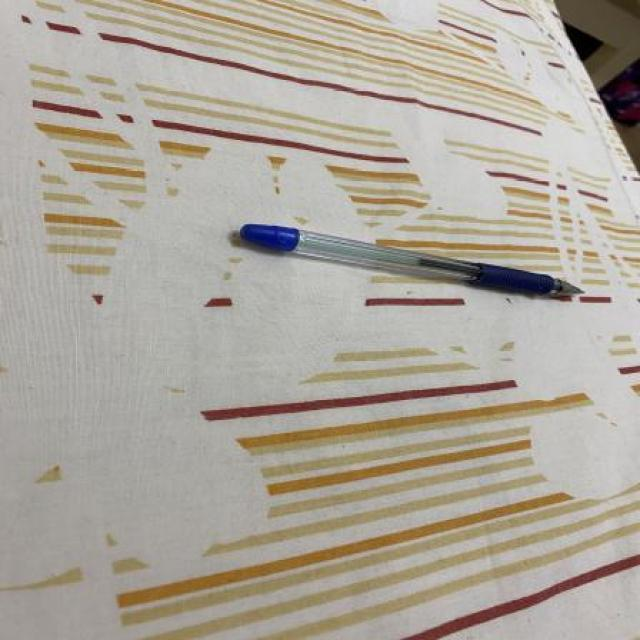pen: (240, 218, 590, 302)
